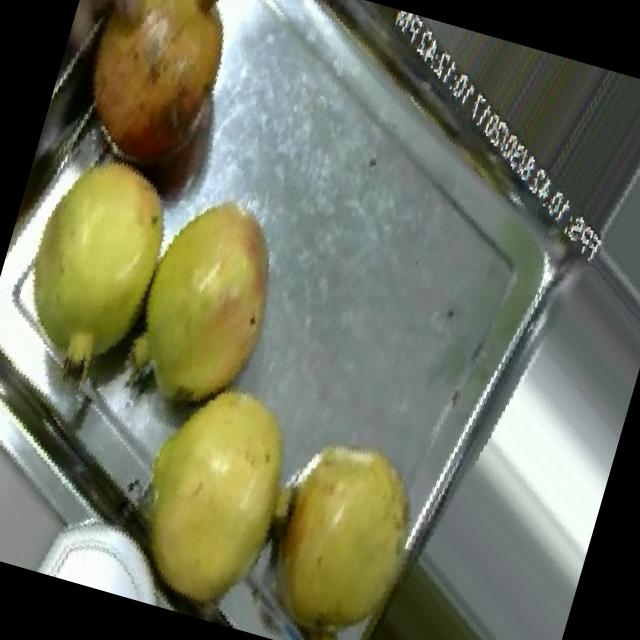fruit: (91, 156, 326, 454), (90, 344, 328, 636), (231, 403, 465, 640), (42, 0, 274, 210)
